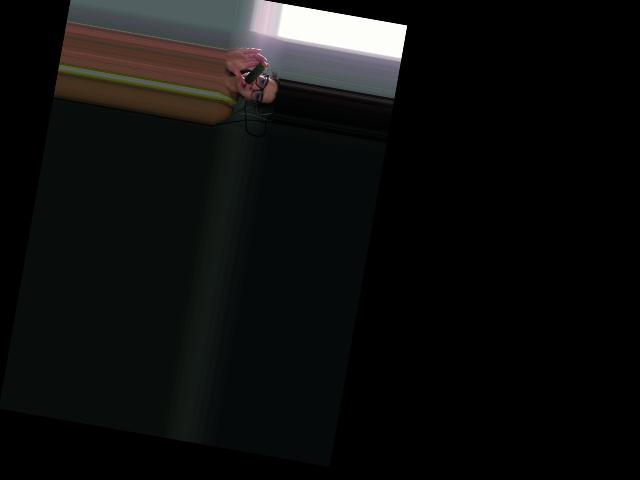cucumber: (244, 61, 266, 87)
